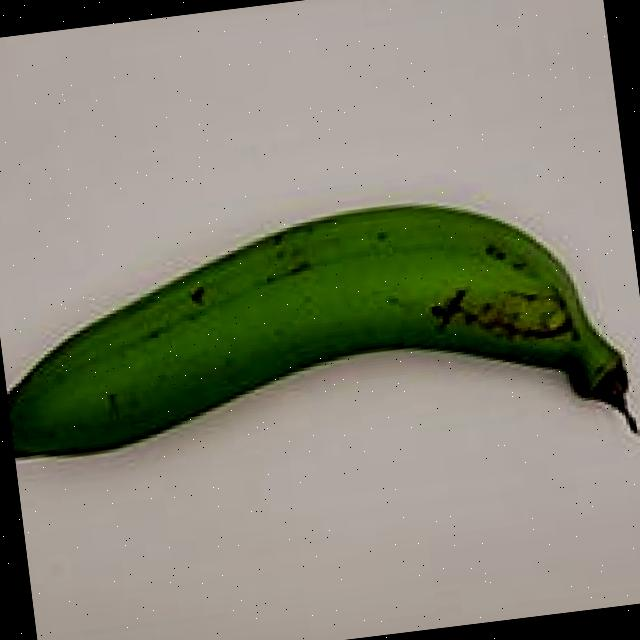Raw: (0, 157, 640, 521)
